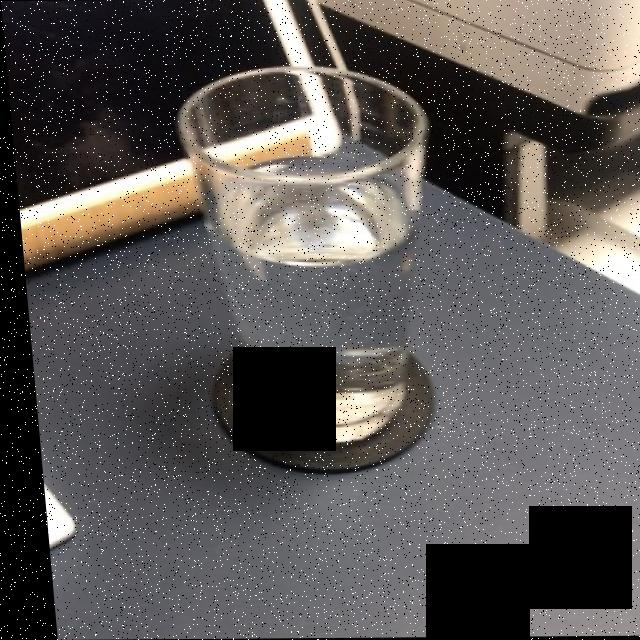water: (199, 179, 411, 440)
